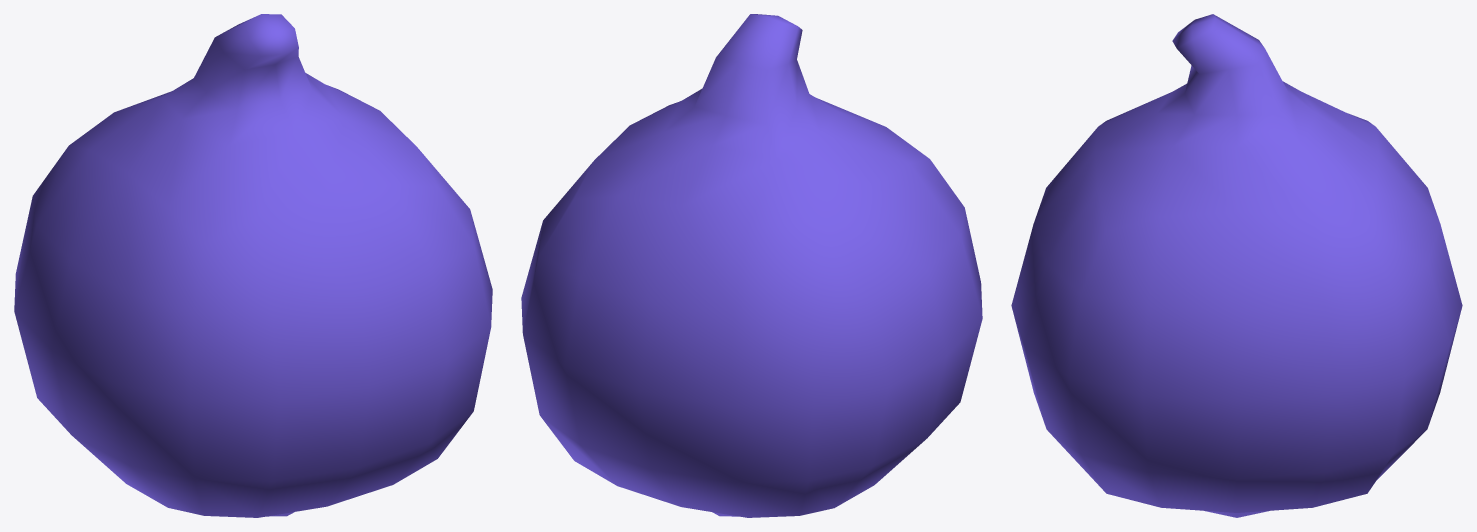
The model's file is Food_Onion.fbx.
3 renders of one model, left to right at view 1: azimuth 30°, elevation 25°; view 2: azimuth 150°, elevation 25°; view 3: azimuth 270°, elevation 25°, orthographic. The views are drawn at different scales.
Parts seen in each view (by area): view 1: Onion; view 2: Onion; view 3: Onion.
Boxes of the visible parts, box(x1,y1,x2,y2) form: Onion: box(14, 14, 492, 517); Onion: box(521, 14, 982, 517); Onion: box(1011, 14, 1462, 517).
Size of the model in its own units: 6.75 by 7.86 by 6.75.
